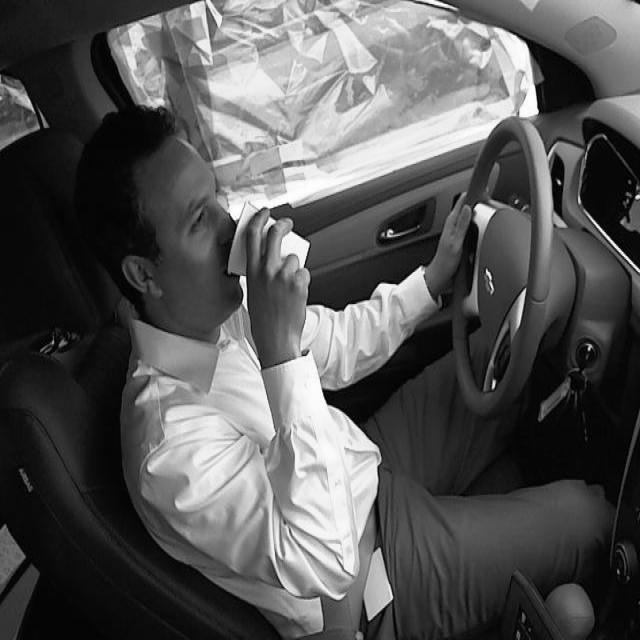drinking: (226, 200, 314, 296)
